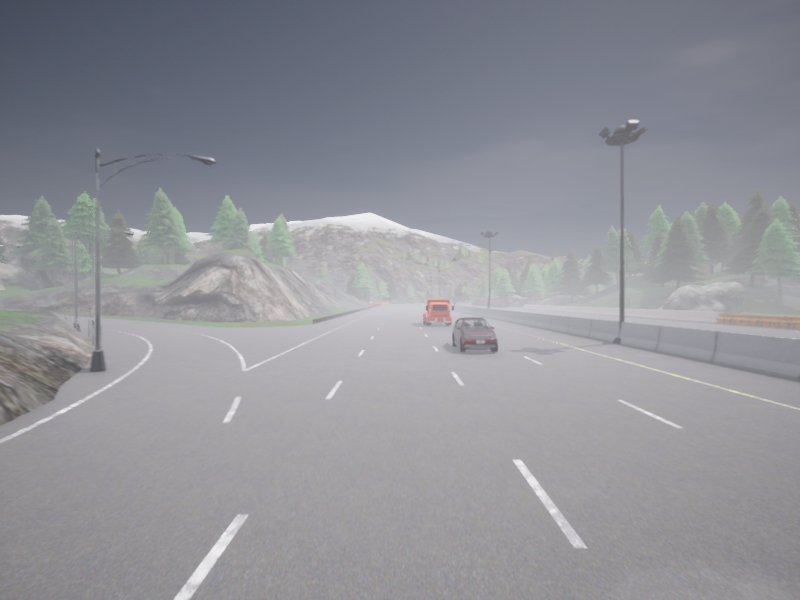vehicle: (452, 317, 497, 352), (423, 299, 453, 326), (462, 300, 468, 303), (452, 301, 456, 303), (449, 300, 450, 304)
